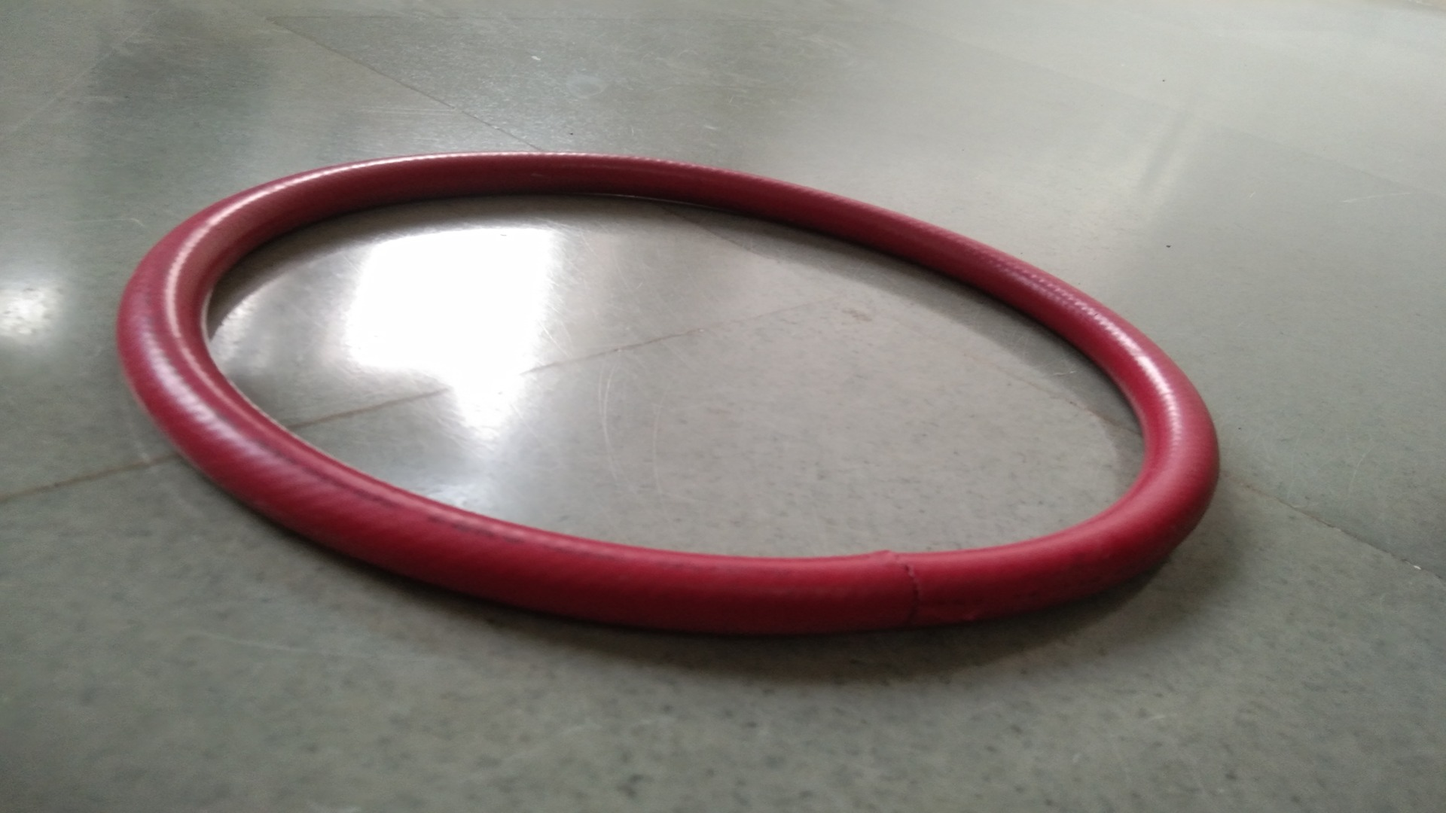Red ring: (118, 149, 1222, 638)
